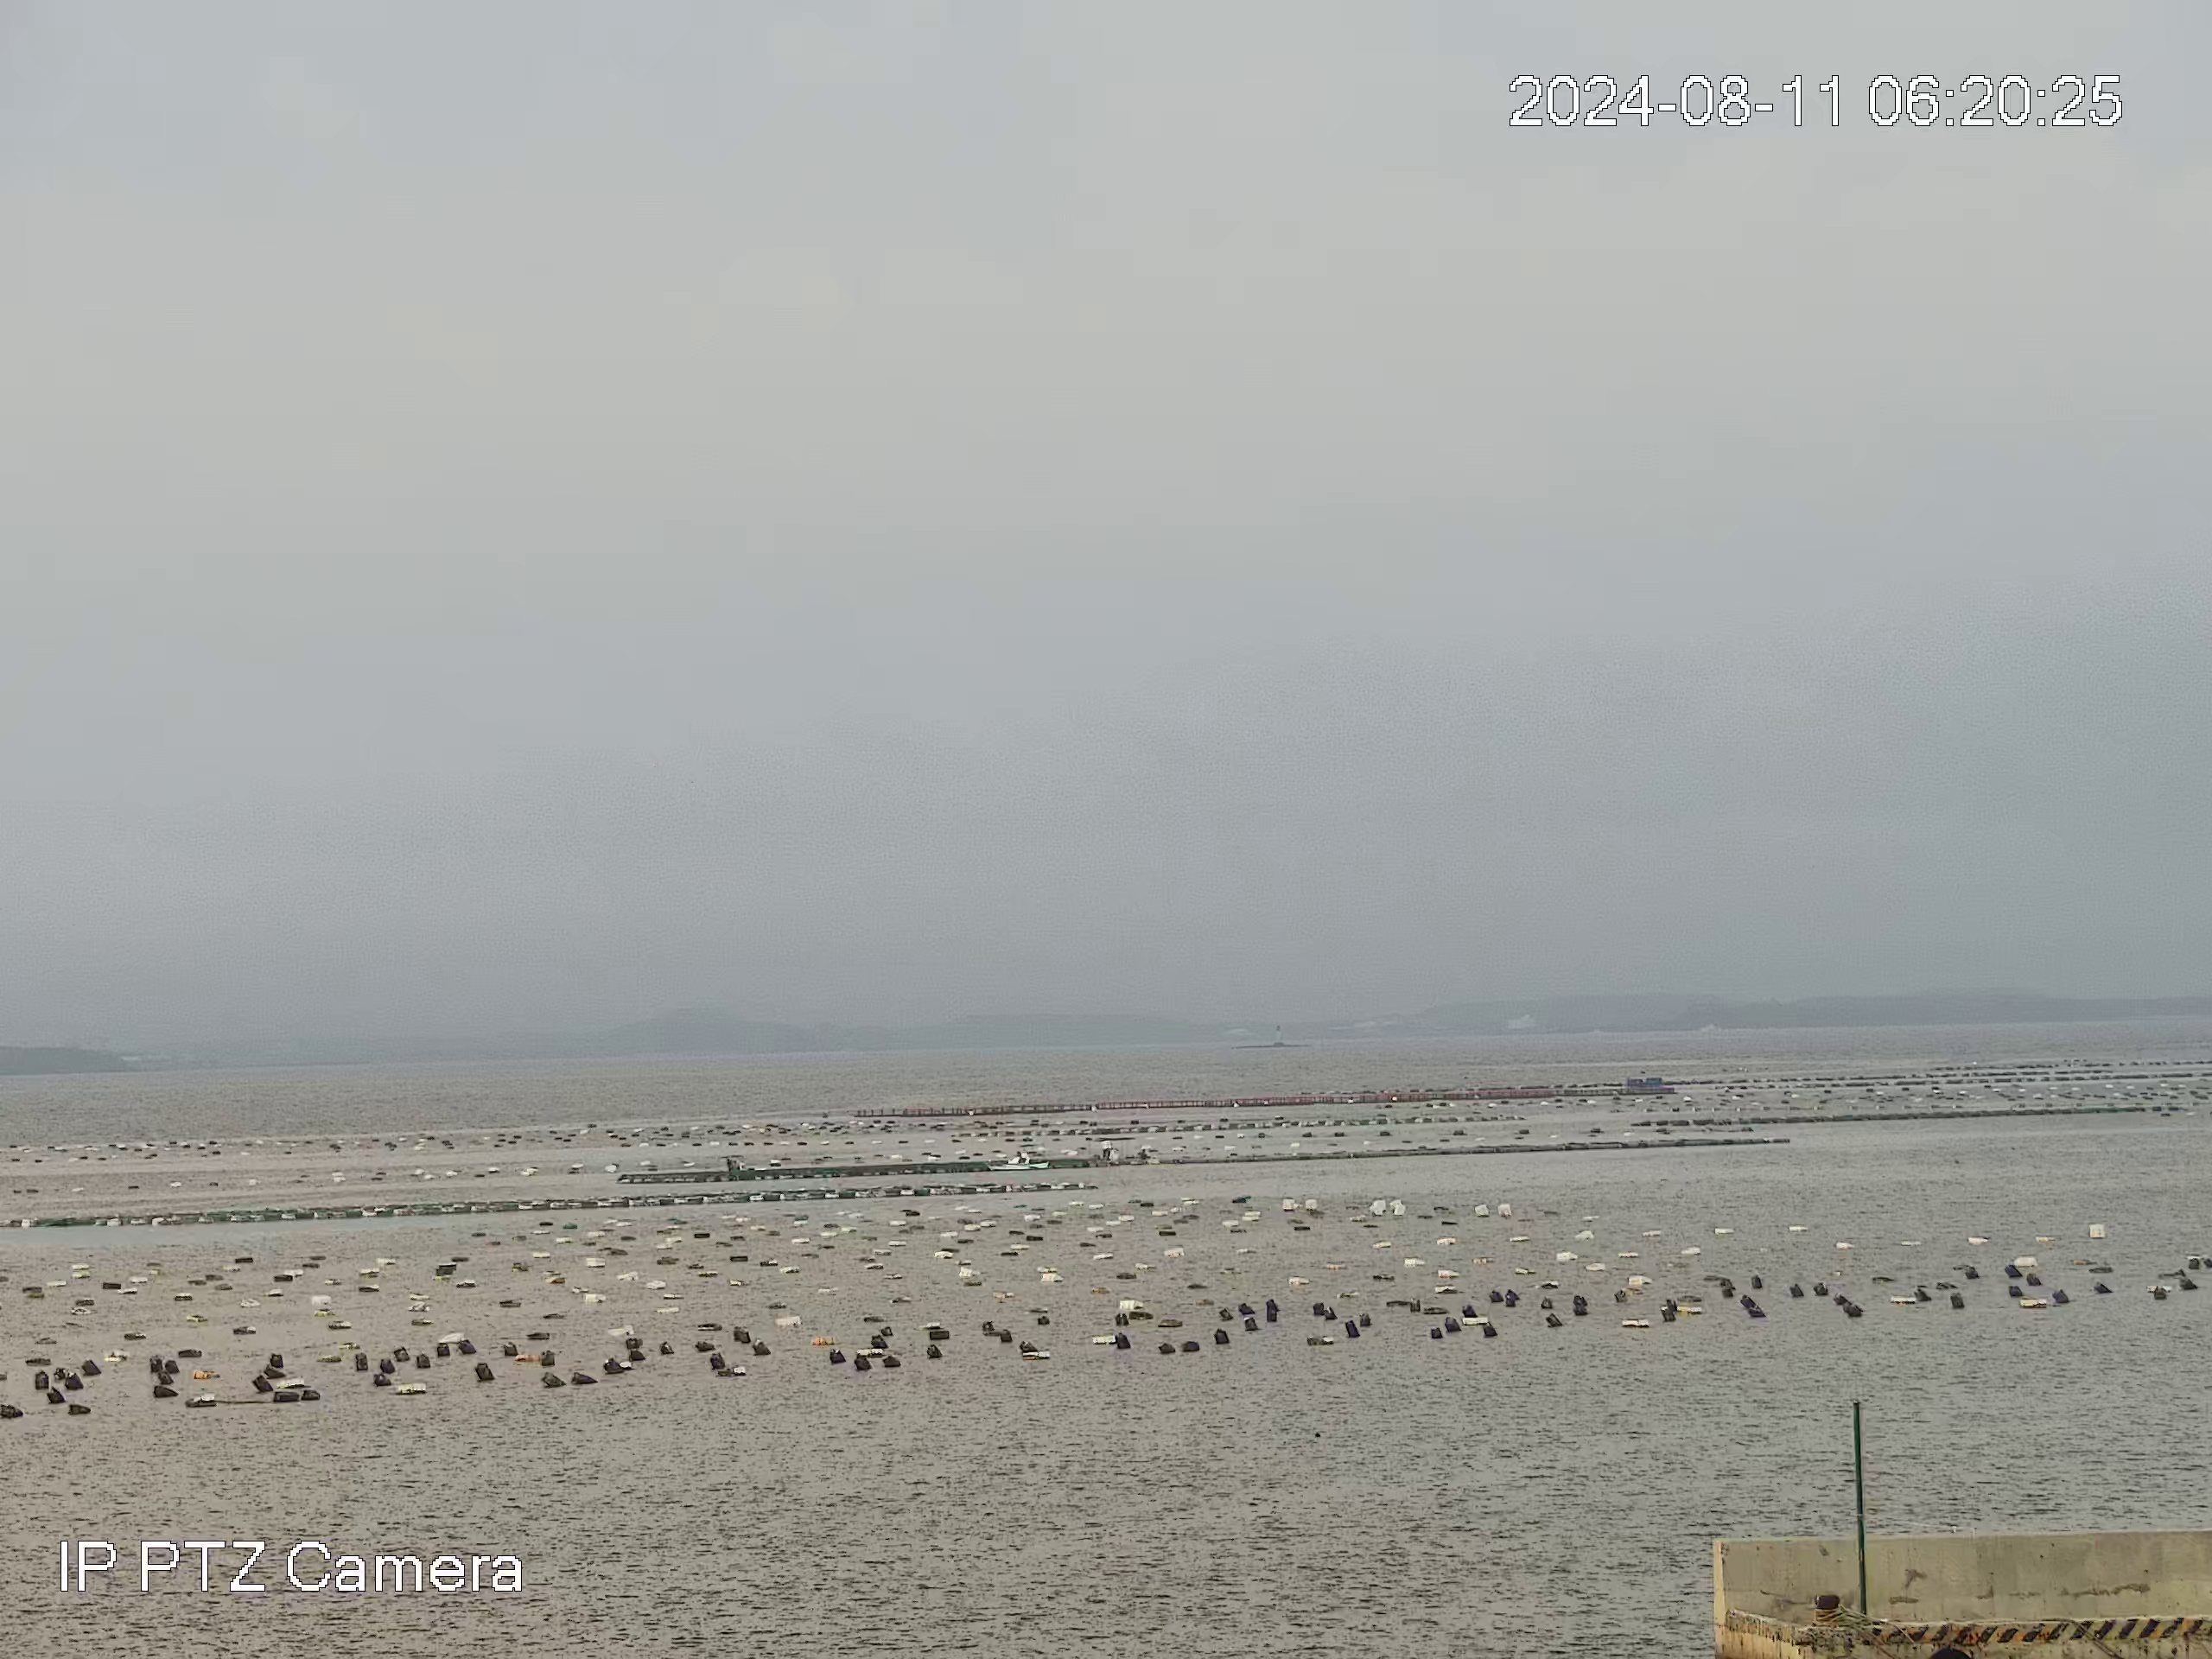boat: (984, 1150, 1054, 1171)
